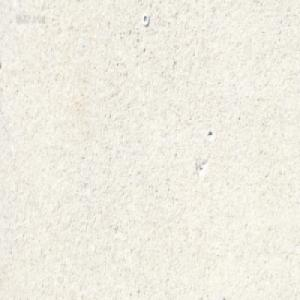Washer: (142, 12, 149, 26)
